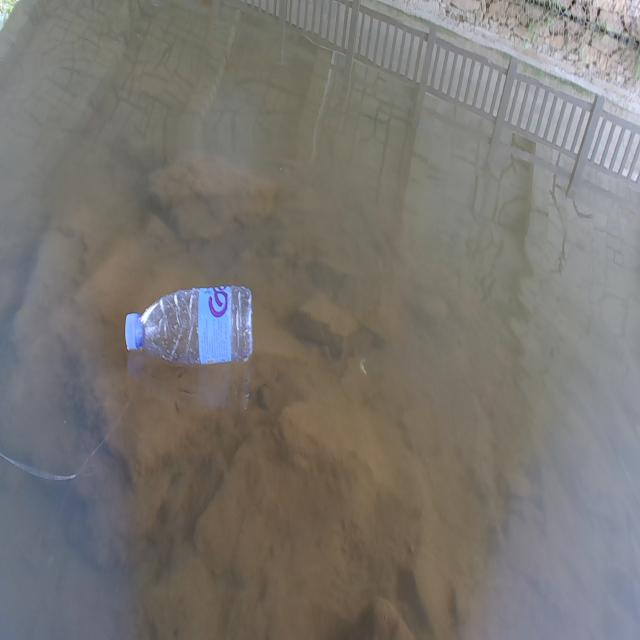Bottle: (121, 282, 257, 367)
